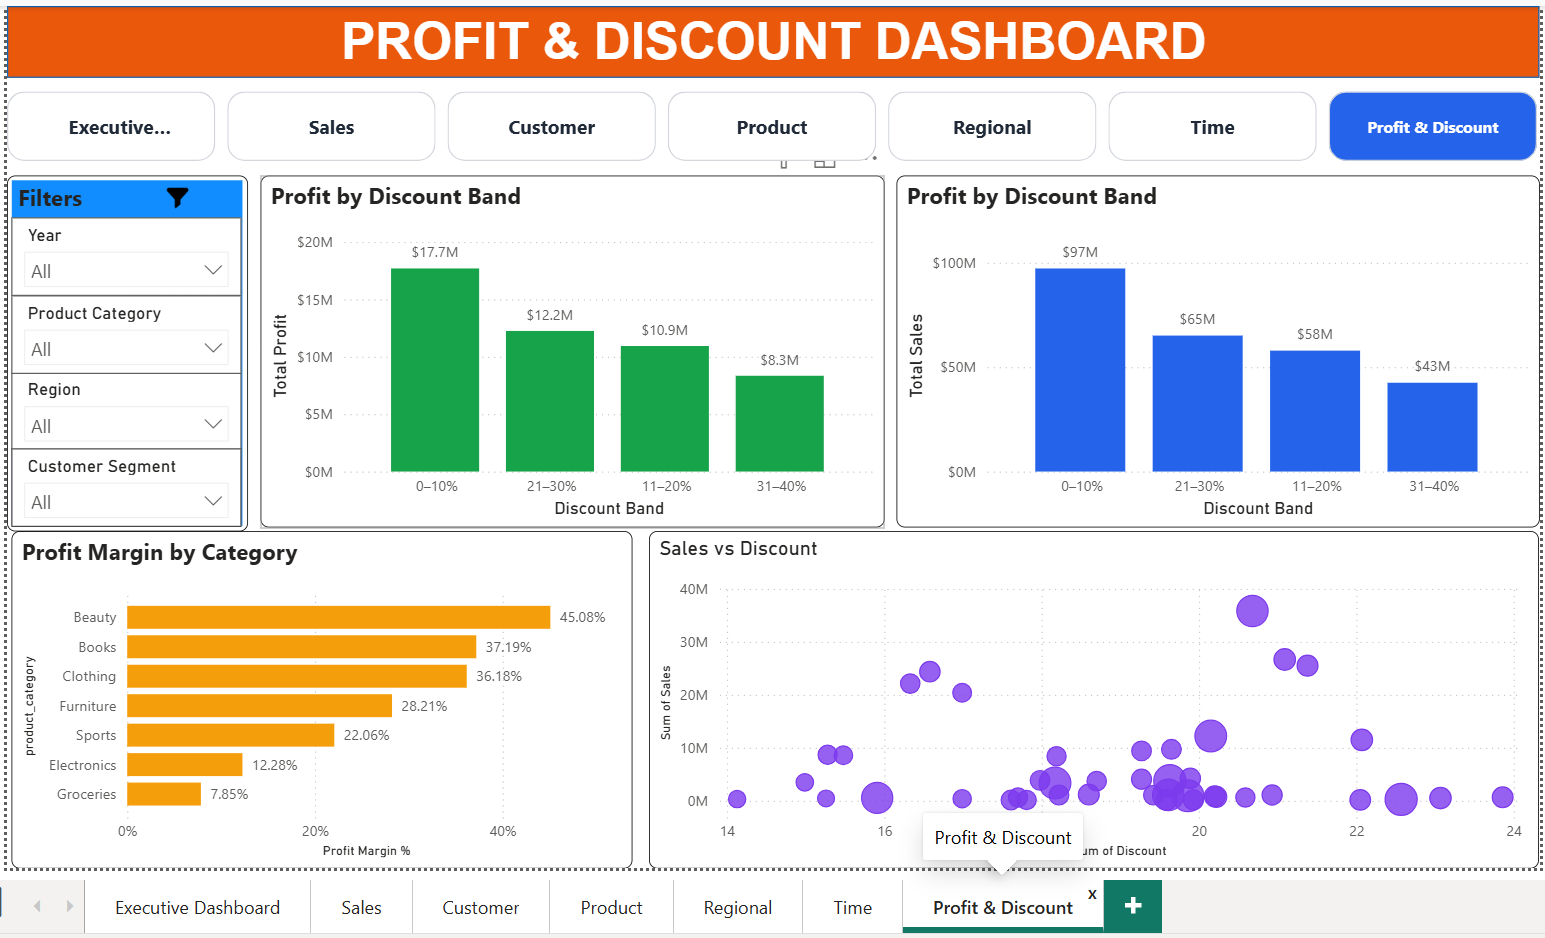

The page's visual inventory and layout, read from the dashboard file:
{"tool":"powerbi","page":{"name":"Profit & Discount","canvas":[1280,720],"ordinal":6},"visuals":[{"type":"shape","box":[0,0,1280,60],"z":0},{"type":"textbox","box":[265,0,750,60],"z":1000},{"type":"clusteredColumnChart","title":"Profit by Discount Band","fields":{"Category":["retail_sales_final.Discount Band"],"Y":["Measures (2).Total Profit"]},"box":[211.4,141.4,521.4,294.3],"z":2000},{"type":"clusteredColumnChart","title":"Sales by Discount Band","fields":{"Category":["retail_sales_final.Discount Band"],"Y":["Measures (2).Total Sales"]},"box":[742.9,141.4,537.1,294.3],"z":3000},{"type":"clusteredBarChart","title":"Profit Margin by Category","fields":{"Category":["retail_sales_final.product_category"],"Y":["Measures (2).Profit Margin %"]},"box":[3.3,438.3,518.3,281.7],"z":4000},{"type":"scatterChart","title":"Sales vs Discount","fields":{"Category":["retail_sales_final.product_name"],"Size":["Sum(retail_sales_final.quantity)"],"X":["Sum(retail_sales_final.discount_pct)"],"Y":["Sum(retail_sales_final.sales_amount)"]},"box":[536.7,438.3,743.3,281.7],"z":5000},{"type":"shape","box":[0,141.4,201,297.1],"z":6000},{"type":"slicer","title":"Year","fields":{"Values":["DateTable.Year"]},"box":[4.3,177.1,192,65],"z":7000},{"type":"slicer","title":"Region","fields":{"Values":["retail_sales_final.region"]},"box":[4.3,305.7,192,65],"z":8000},{"type":"slicer","title":"Category","fields":{"Values":["retail_sales_final.product_category"]},"box":[4.3,241.4,192,65],"z":9000},{"type":"slicer","title":"Customer Segmentation","fields":{"Values":["retail_sales_final.customer_segment"]},"box":[4.3,370,192,65],"z":10000},{"type":"textbox","box":[0,141.4,72,35],"z":11000},{"type":"image","box":[117.1,148.6,51.7,21],"z":12000},{"type":"pageNavigator","box":[0,71.4,1280,58.6],"z":12001}]}

Visuals, with their boxes in screenshot pixels (x1, y1, x2, y2):
shape: 0, 0, 1524, 71
textbox: 315, 0, 1208, 71
"Profit by Discount Band" clusteredColumnChart: 252, 168, 872, 519
"Sales by Discount Band" clusteredColumnChart: 884, 168, 1524, 519
"Profit Margin by Category" clusteredBarChart: 4, 522, 621, 857
"Sales vs Discount" scatterChart: 639, 522, 1524, 857
shape: 0, 168, 239, 522
"Year" slicer: 5, 211, 234, 288
"Region" slicer: 5, 364, 234, 441
"Category" slicer: 5, 287, 234, 365
"Customer Segmentation" slicer: 5, 440, 234, 518
textbox: 0, 168, 86, 210
image: 139, 177, 201, 202
pageNavigator: 0, 85, 1524, 155
